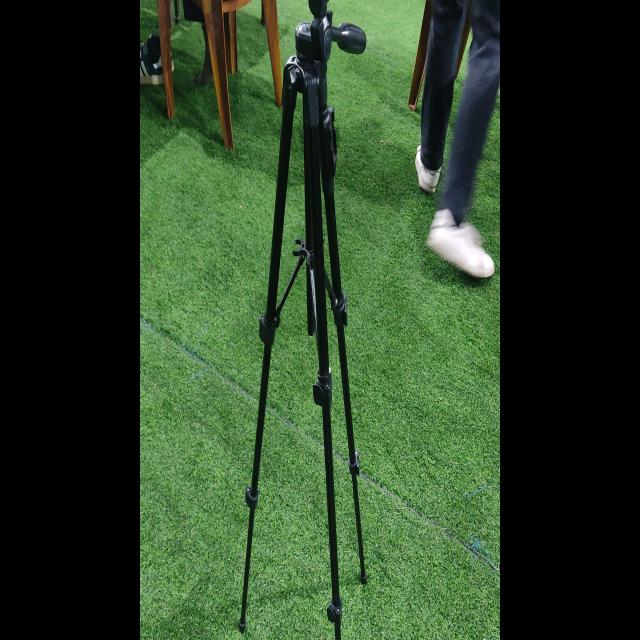Camer Stand: (237, 1, 369, 636)
Chair: (157, 0, 283, 152)
